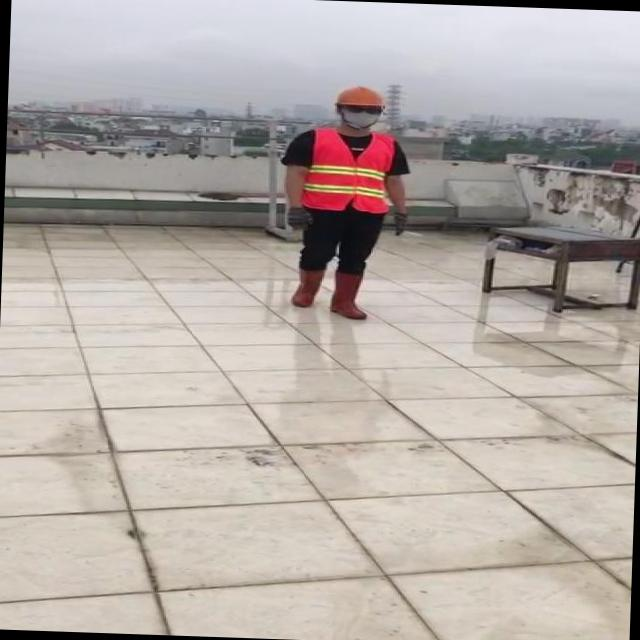hard_hat: (332, 84, 388, 108)
safety_vest: (301, 128, 394, 212)
vehicle: (272, 80, 420, 326)
work_boots: (327, 270, 372, 320), (290, 265, 324, 309)
